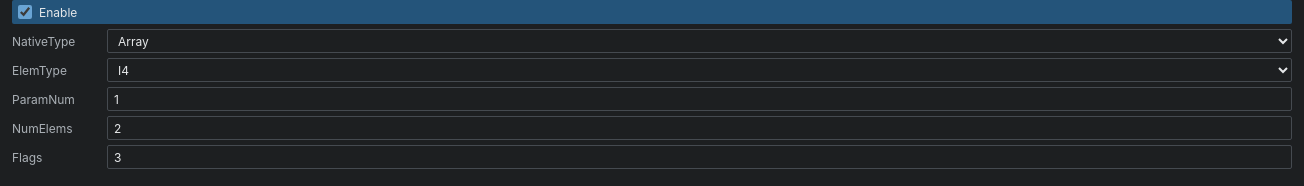
it: MarshalTypeEditor › hangs the array boxes off one another and clears the ones that stop applying
Check: the field named "ParamNum" is enabled, box [107, 87, 1292, 111]
Check: the field named "NumElems" is enabled, box [107, 116, 1292, 140]
Select "<Not Initialized>" in the dropdown named "ElemType" at (700, 70), box [107, 58, 1292, 82]
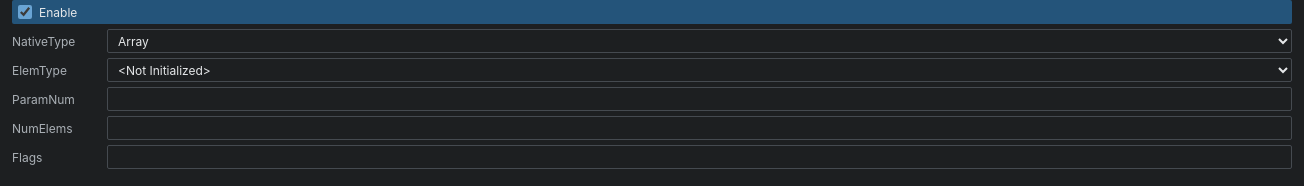
Check: the field named "ParamNum" is disabled, box [107, 87, 1292, 111]
Check: the field named "ParamNum" is empty, box [107, 87, 1292, 111]
Check: the field named "NumElems" is empty, box [107, 116, 1292, 140]
